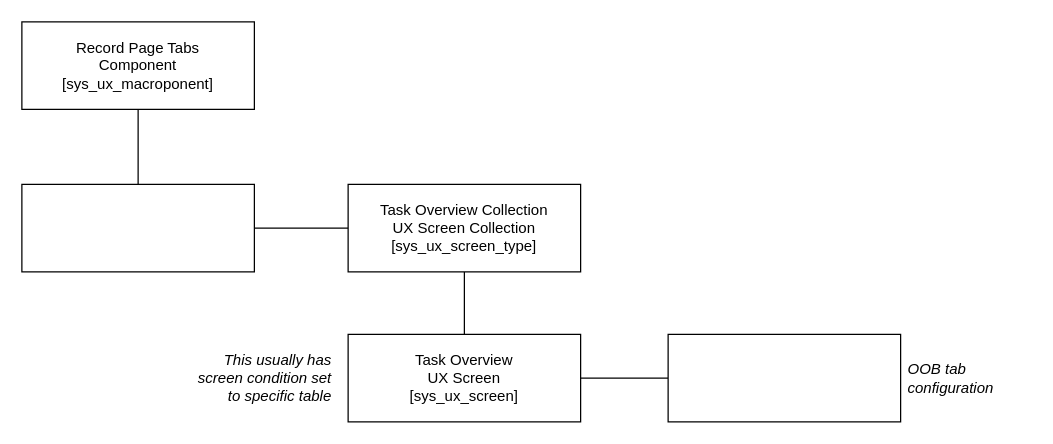
Image size: 1053x444. Some labels were removed from this diagram. Each missing label, with the centre of its shape:
"Overview UX App Route [sys_ux_screen_type]" goes at [137,227].
"Task Overview Page Definition [sys_ux_macroponent]" goes at [784,377].
